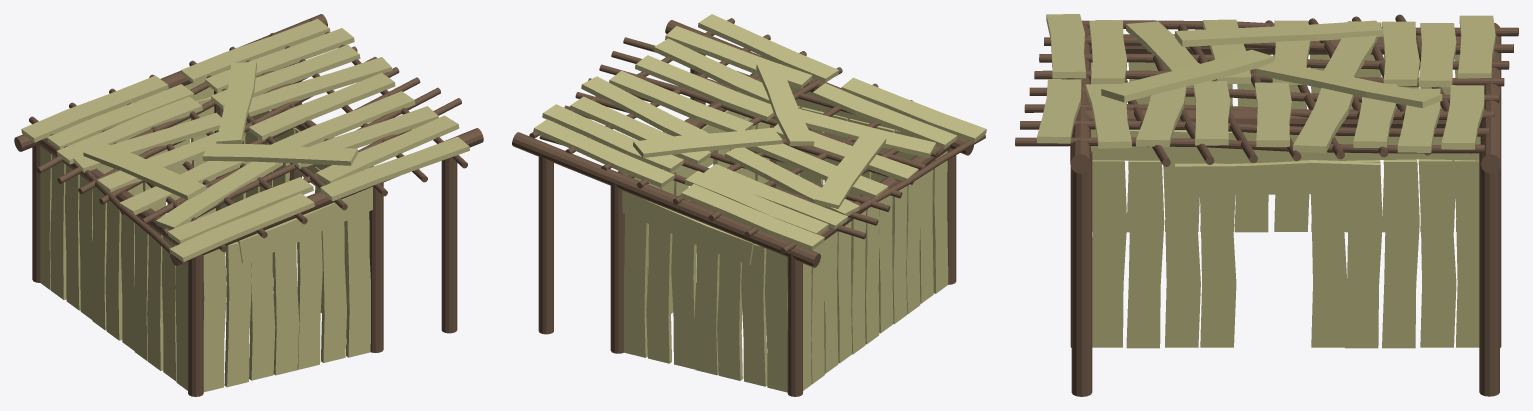
Rendered from Shack base.fbx.
3 views of the same model, side by side, from view 1: azimuth 30°, elevation 25°; view 2: azimuth 150°, elevation 25°; view 3: azimuth 270°, elevation 25° (orthographic). The views are drawn at different scales.
Parts seen in each view (by area): view 1: Cube.537, Cube.535; view 2: Cube.537, Cube.535; view 3: Cube.537, Cube.535.
Boxes of the visible parts, x1,y1,x2,y2 form: Cube.537: (21, 19, 469, 392); Cube.535: (14, 14, 483, 396); Cube.537: (533, 14, 986, 392); Cube.535: (512, 18, 985, 396); Cube.537: (1037, 14, 1495, 348); Cube.535: (1015, 14, 1518, 396).
Size of the model in its own units: 7.42 by 4.25 by 7.35.
